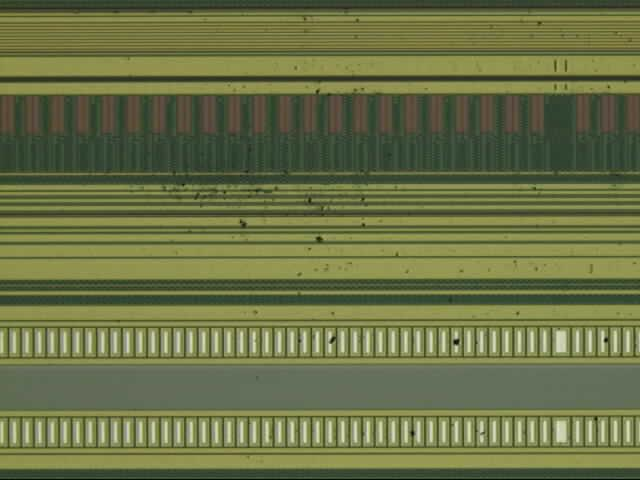PO CONTAMINATION: (90, 1, 640, 445)
